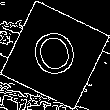O_S: (26, 24, 84, 86)
